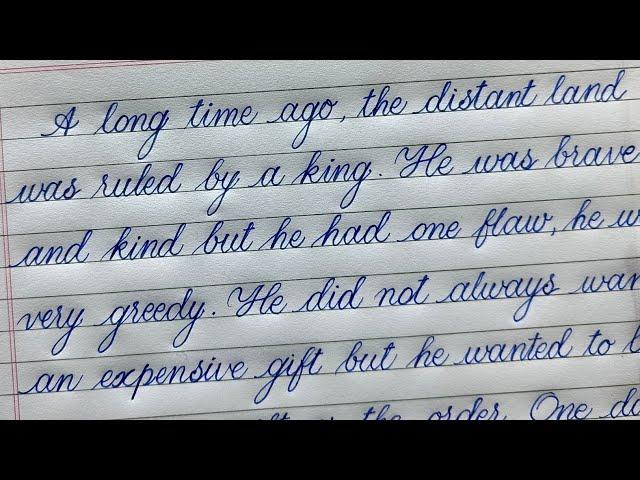text: (0, 130, 639, 219), (37, 67, 629, 163), (15, 267, 640, 357), (16, 325, 640, 407), (6, 196, 640, 271), (258, 385, 640, 420)
